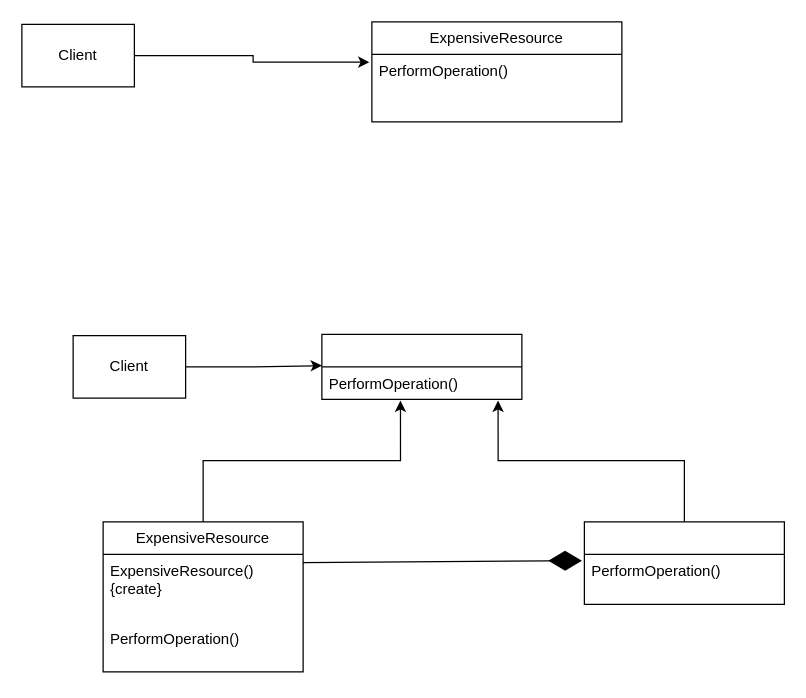
The diagram is 806 pixels wide and 698 high, and some of its shapes have lost their labels. Here are the shapes that lost their labels. From the top down, the box of each, then its label:
(321, 333, 522, 399): IResource
(583, 521, 784, 604): ExpensiveResourceProxy
